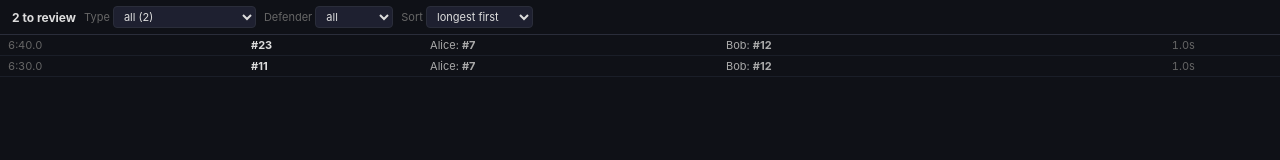
Test case: DisagreementQueue › filters to one defender
Select "#11 Cruz" in the dropdown labelled "Defender": (354, 17) [315,6,393,28]
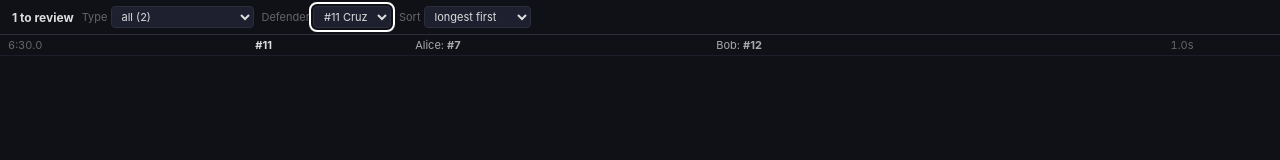
Expected: the row shows "#11", [0,35,1279,56]
Expected: the number of rows is 1, [0,35,1279,56]
